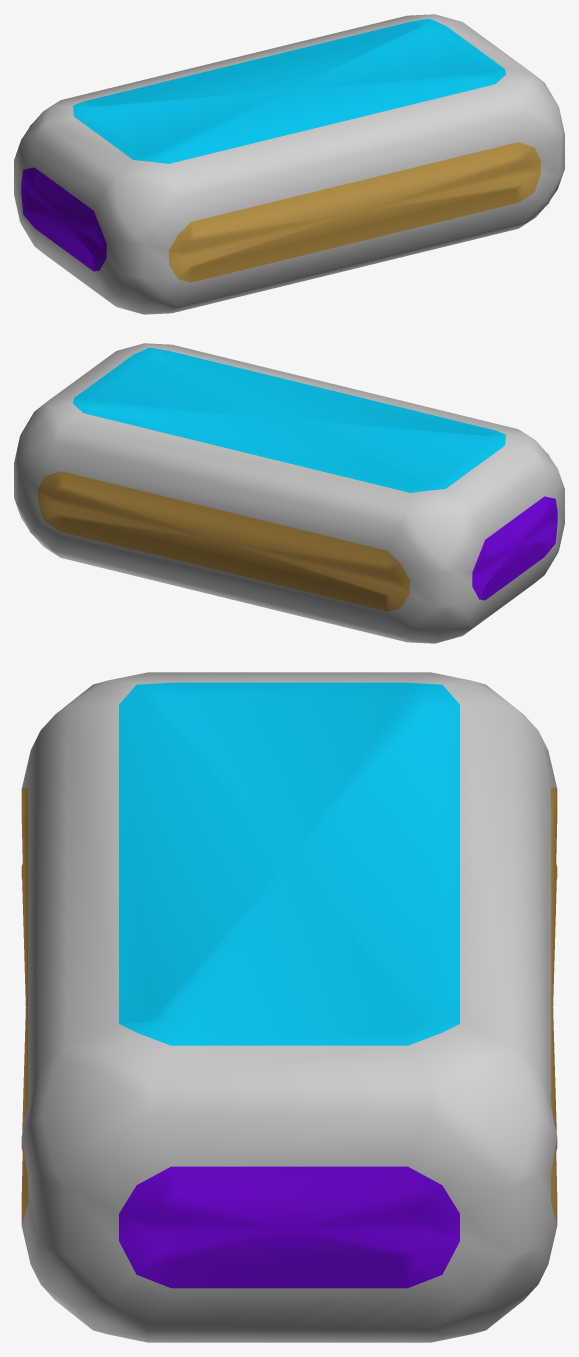
File: D_FBX_15_Stick_A.fbx
3 views of the same model, one above another, from view 1: azimuth 30°, elevation 25°; view 2: azimuth 150°, elevation 25°; view 3: azimuth 270°, elevation 25° (orthographic). The views are drawn at different scales.
Visible parts, largest first — view 1: D_FBX_15_Stick_A; view 2: D_FBX_15_Stick_A; view 3: D_FBX_15_Stick_A.
Boxes of the visible parts, x1,y1,x2,y2 form: D_FBX_15_Stick_A: [14, 14, 564, 314]; D_FBX_15_Stick_A: [14, 343, 564, 643]; D_FBX_15_Stick_A: [21, 672, 557, 1342].
Size of the model in its own units: 203 by 63.44 by 103.
